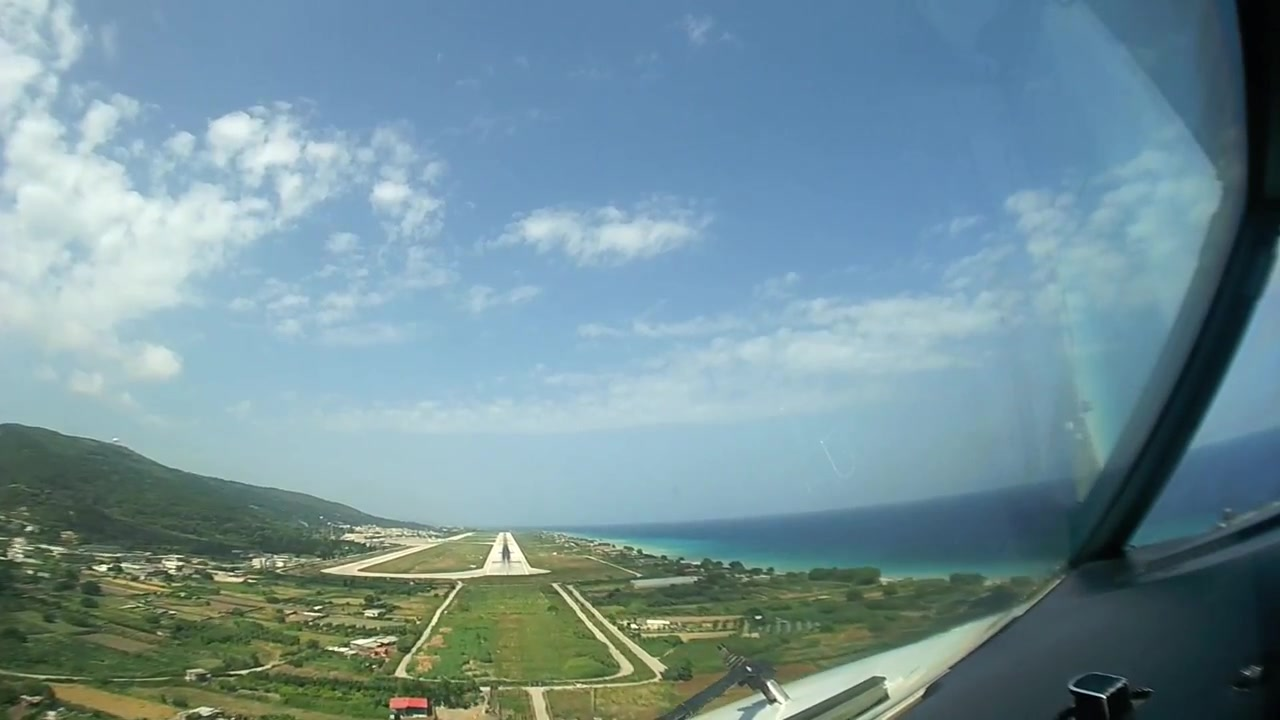runway: (480, 532, 532, 576)
